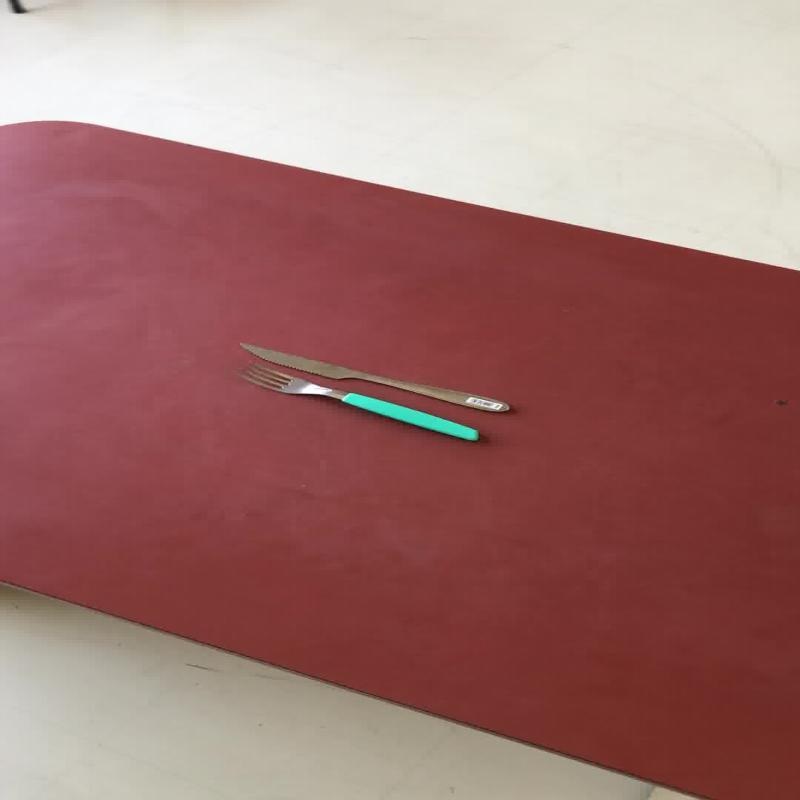fork: (234, 360, 478, 442)
knife: (236, 340, 511, 412)
